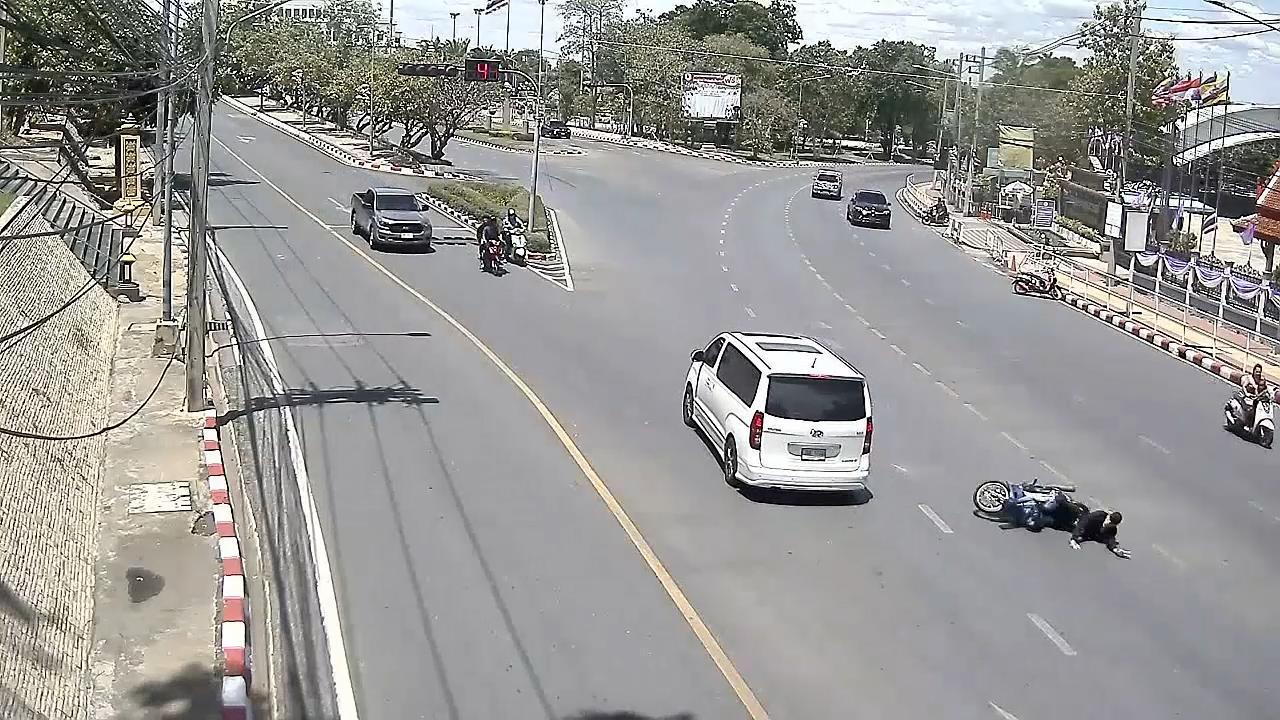accident: (1044, 498, 1133, 562)
